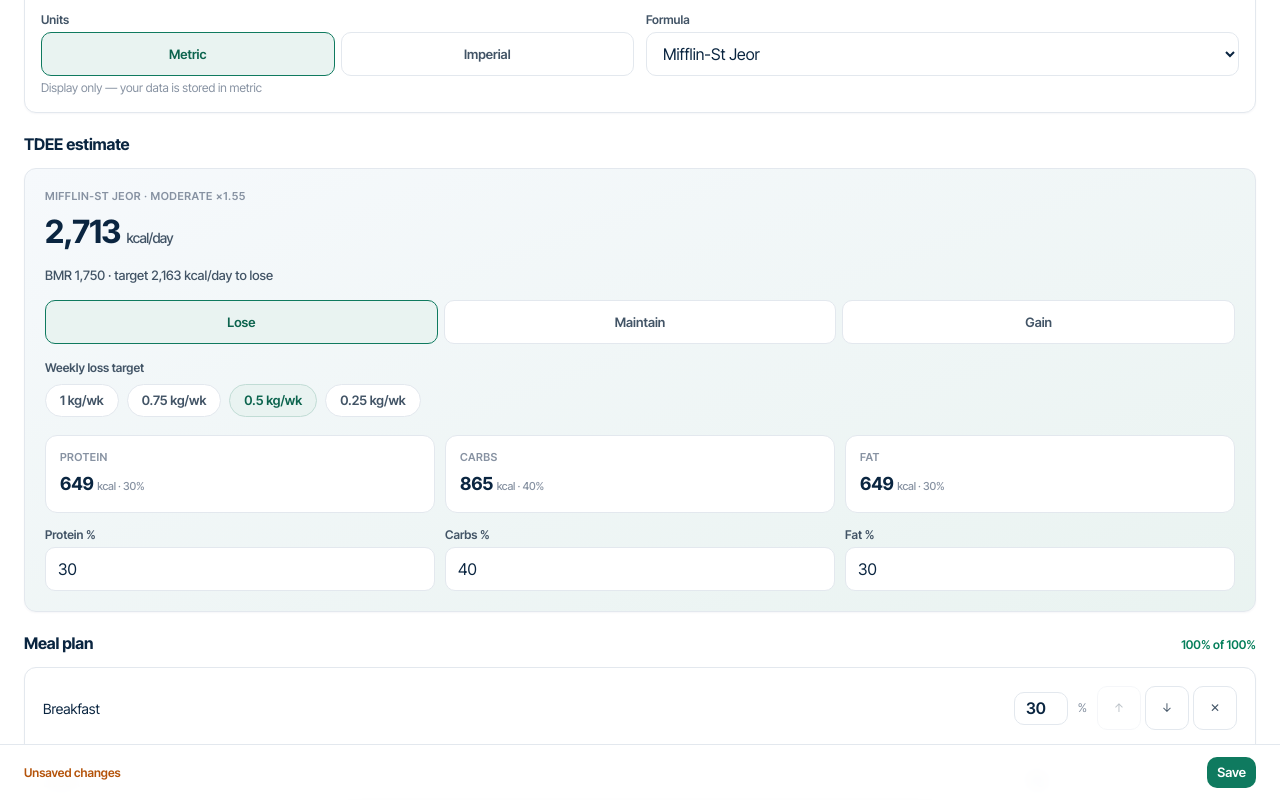
Test case: ProfileGoals — weekly rate drives the calorie target › recomputes the target when a different rate is chosen
This screenshot has width=1280, height=800.
(page scrolled)
Click the radio button labelled "1 kg/wk": (82,401) [45,384,119,417]
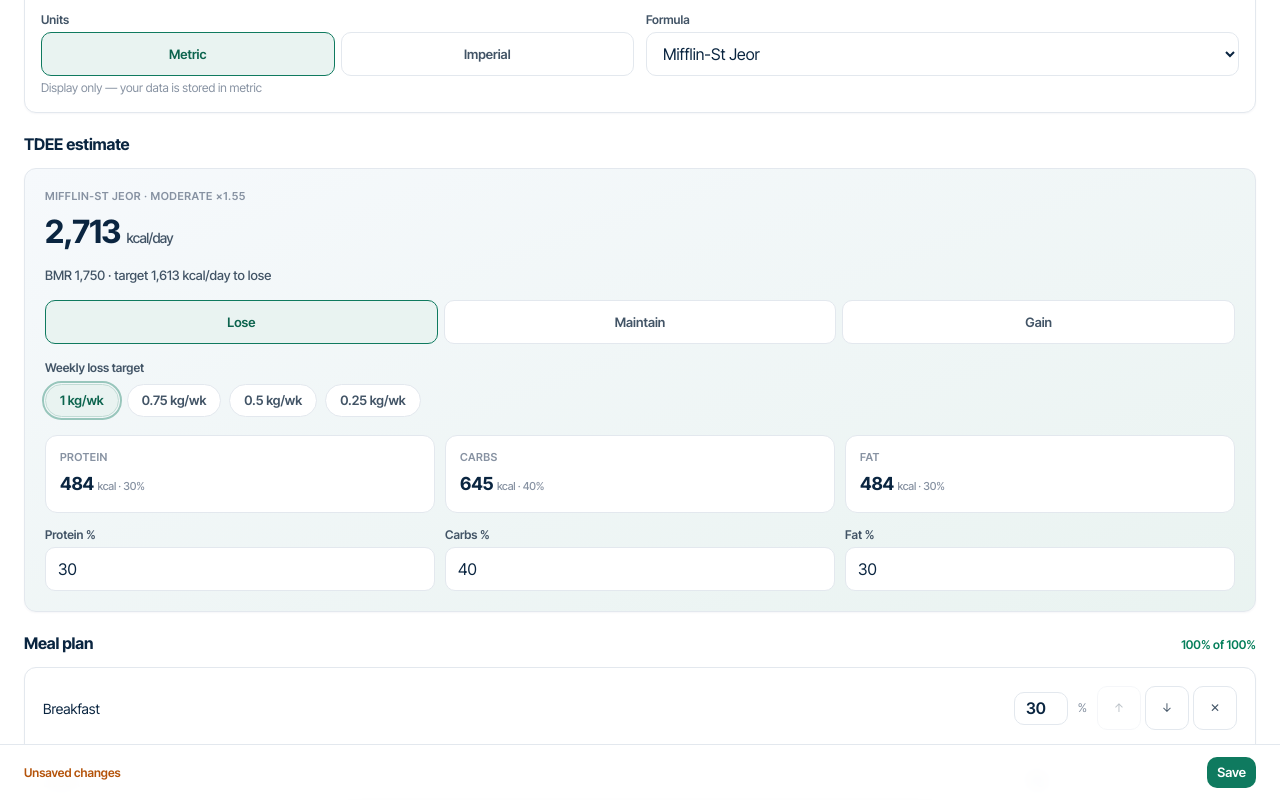
Now the text with test id "calorie-target" shows "1,613", box [151,267,180,283]
